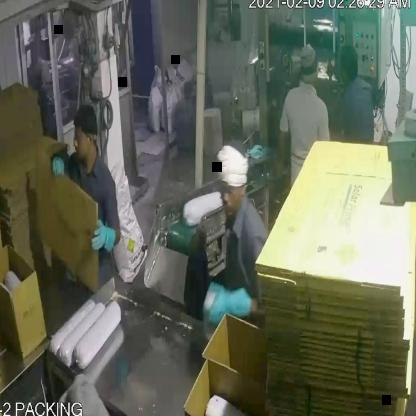glove: (201, 276, 255, 333), (87, 212, 124, 263), (47, 152, 70, 186)
